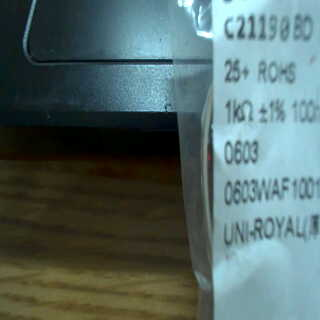1kR: (222, 98, 257, 132)
